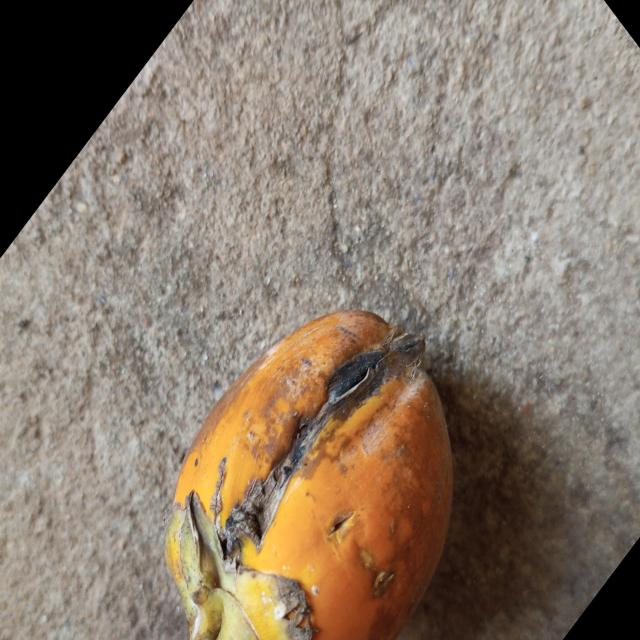damaged: (165, 310, 454, 640)
